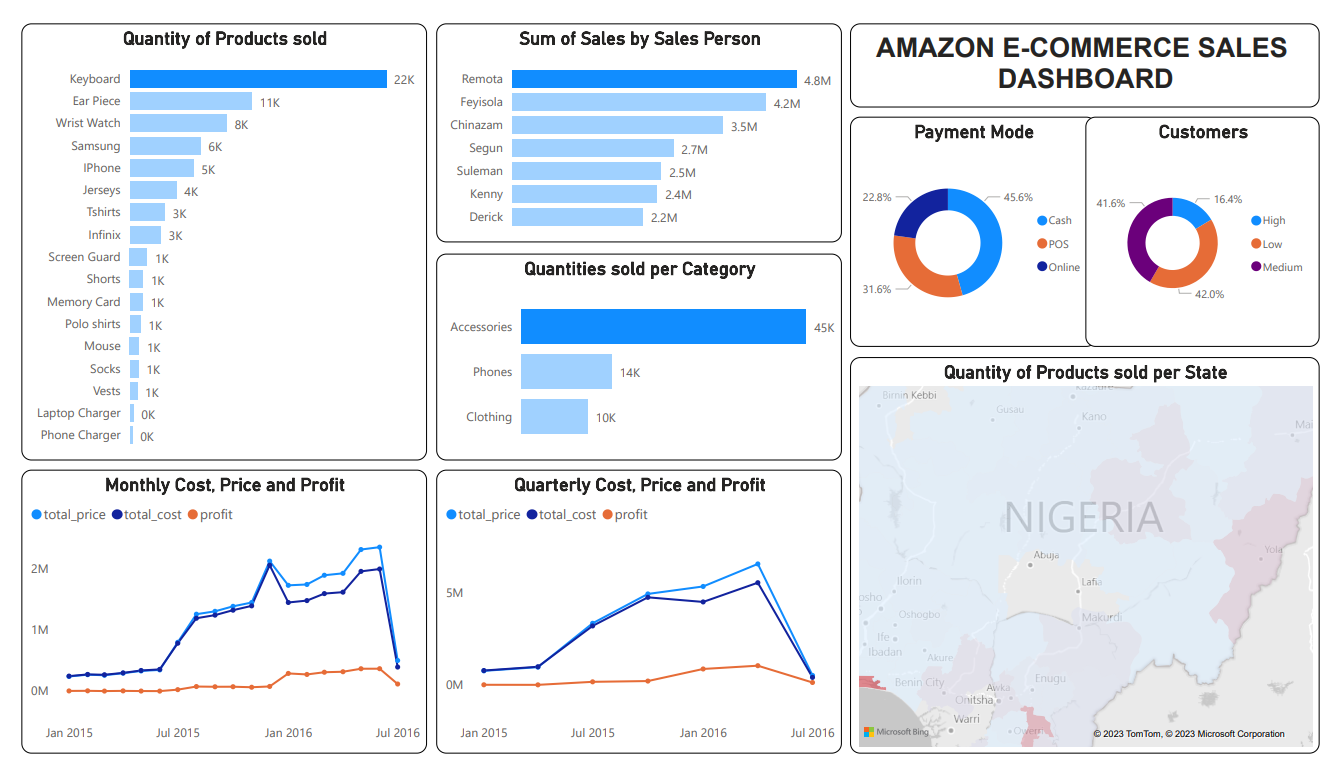

The dashboard page shown, as its layout file describes it:
{"tool":"powerbi","page":{"name":"Page 1","canvas":[1280,720],"ordinal":0},"visuals":[{"type":"clusteredBarChart","title":"Sum of Sales by Sales Person","fields":{"Category":["sales sales_person.name"],"Y":["sales sales_data.total_price"]},"box":[409,0,400,216],"z":0},{"type":"lineChart","title":"Monthly Cost, Price and Profit","fields":{"Y":["sales sales_data.total_price","sales sales_data.total_cost","sales sales_data.profit"],"Category":["sales sales_data.date.Variation.Date Hierarchy.Year","sales sales_data.date.Variation.Date Hierarchy.Month"]},"box":[0,440,400,280],"z":1000},{"type":"clusteredBarChart","title":"Quantities sold per Category","fields":{"Category":["sales products.category"],"Y":["sales sales_data.quantity"]},"box":[409,227,400,204],"z":2000},{"type":"clusteredBarChart","title":"Quantity of Products  sold","fields":{"Category":["sales products.sub_category"],"Y":["sales sales_data.quantity"]},"box":[0,0,400,431],"z":3000},{"type":"filledMap","title":"Quantity of Products sold per State","fields":{"Category":["sales customers.state"]},"box":[817,329,463,391],"z":4000},{"type":"donutChart","title":"Payment Mode","fields":{"Category":["sales payment.mode"],"Y":["sales sales_data.payment_id"]},"box":[817,92,243,227],"z":5000},{"type":"lineChart","title":"Quarterly Cost, Price and Profit","fields":{"Category":["sales sales_data.date.Variation.Date Hierarchy.Year","sales sales_data.date.Variation.Date Hierarchy.Quarter"],"Y":["sales sales_data.total_price","sales sales_data.total_cost","sales sales_data.profit"]},"box":[409,440,400,280],"z":6000},{"type":"donutChart","title":"Customers","fields":{"Y":["sales sales_data.customer_id"],"Series":["sales customers.customer"]},"box":[1049,92,231,227],"z":7000},{"type":"textbox","box":[817,0,463,83],"z":7003}]}

Visuals, with their boxes on the page's 1280x720 design canvas (x1, y1, x2, y2). These are canvas units, not pixel positions in the 1336x772 screenshot, which may show the page scaled, cropped or inside an application window:
"Sum of Sales by Sales Person" clusteredBarChart: 409, 0, 809, 216
"Monthly Cost, Price and Profit" lineChart: 0, 440, 400, 720
"Quantities sold per Category" clusteredBarChart: 409, 227, 809, 431
"Quantity of Products  sold" clusteredBarChart: 0, 0, 400, 431
"Quantity of Products sold per State" filledMap: 817, 329, 1280, 720
"Payment Mode" donutChart: 817, 92, 1060, 319
"Quarterly Cost, Price and Profit" lineChart: 409, 440, 809, 720
"Customers" donutChart: 1049, 92, 1280, 319
textbox: 817, 0, 1280, 83
